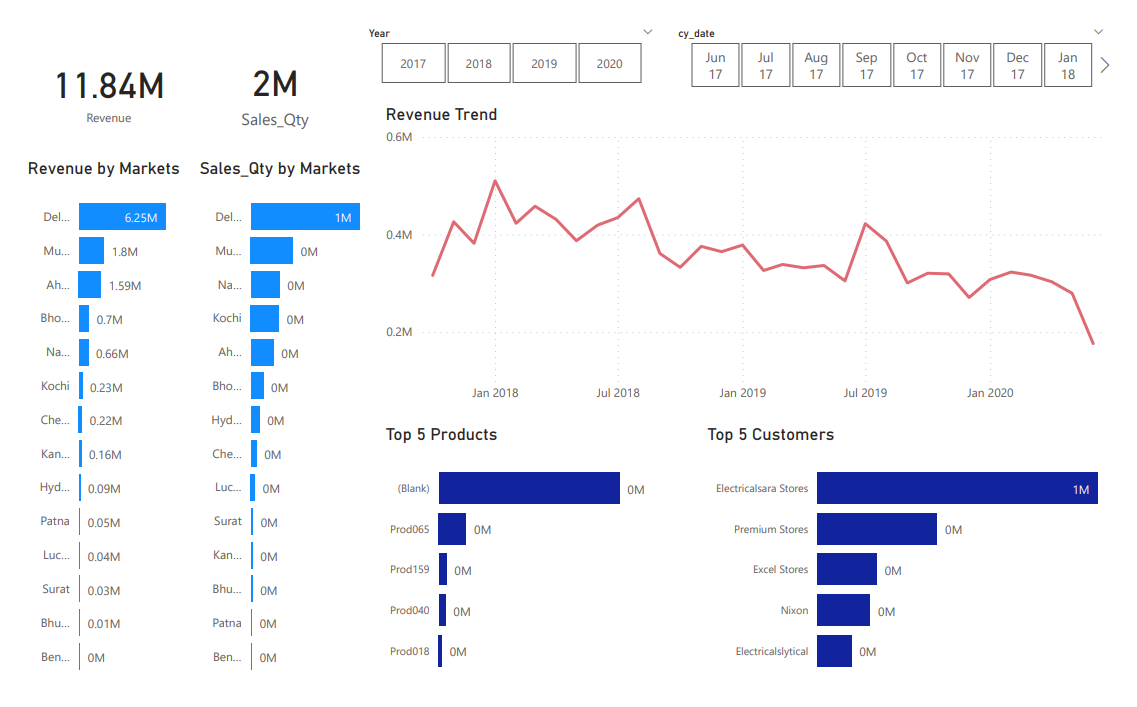

This screenshot's page, from the dashboard's own definition file:
{"tool":"powerbi","page":{"name":"Page 1","canvas":[1100,700],"ordinal":0},"visuals":[{"type":"card","fields":{"Values":["BaseMeasures.Revenue"]},"box":[0,0,171.5,136.7],"z":0},{"type":"barChart","title":"Revenue by Markets","fields":{"Y":["BaseMeasures.Revenue"],"Category":["sales markets.markets_name"]},"box":[0,136.4,171.8,530.9],"z":1000},{"type":"card","fields":{"Values":["BaseMeasures.Sales_Qty"]},"box":[171.5,0,161.1,136.7],"z":2000},{"type":"barChart","title":"Sales_Qty by Markets","fields":{"Y":["BaseMeasures.Sales_Qty"],"Category":["sales markets.markets_name"]},"box":[171.8,136.4,170.9,530.9],"z":3000},{"type":"slicer","title":"Year","fields":{"Values":["sales date.year"]},"box":[332.7,0,310,68.2],"z":4000},{"type":"slicer","title":"Year","fields":{"Values":["sales date.cy_date"]},"box":[642.7,0,450.9,68.2],"z":5000},{"type":"barChart","title":"Top 5 Customers","fields":{"Y":["BaseMeasures.Sales_Qty"],"Category":["sales customers.custmer_name"]},"box":[680,401.8,420,265.5],"z":6000},{"type":"barChart","title":"Top 5 Products","fields":{"Y":["BaseMeasures.Sales_Qty"],"Category":["sales products.product_code"]},"box":[358.2,401.8,321.8,265.5],"z":7000},{"type":"lineChart","title":"Revenue Trend","fields":{"Category":["sales date.cy_date"],"Y":["BaseMeasures.Revenue"]},"box":[358.2,81.8,741.8,307.3],"z":7001}]}

Visuals, with their boxes in screenshot pixels (x1, y1, x2, y2), scaled from the page's 1100x700 canvas onto the 1137x707 screenshot:
card - BaseMeasures.Revenue: <bbox>0, 0, 177, 138</bbox>
"Revenue by Markets" barChart: <bbox>0, 138, 178, 674</bbox>
card - BaseMeasures.Sales_Qty: <bbox>177, 0, 344, 138</bbox>
"Sales_Qty by Markets" barChart: <bbox>178, 138, 354, 674</bbox>
"Year" slicer: <bbox>344, 0, 664, 69</bbox>
"Year" slicer: <bbox>664, 0, 1130, 69</bbox>
"Top 5 Customers" barChart: <bbox>703, 406, 1136, 674</bbox>
"Top 5 Products" barChart: <bbox>370, 406, 703, 674</bbox>
"Revenue Trend" lineChart: <bbox>370, 83, 1136, 393</bbox>
